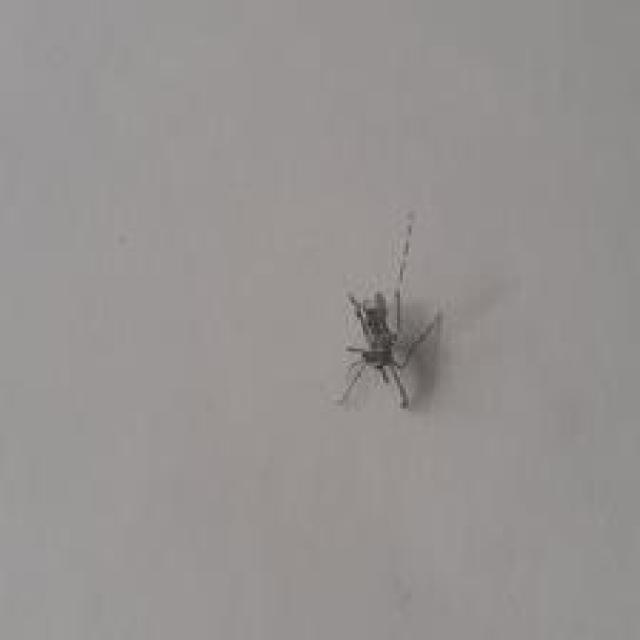Aedes albopictus: (334, 210, 443, 410)
